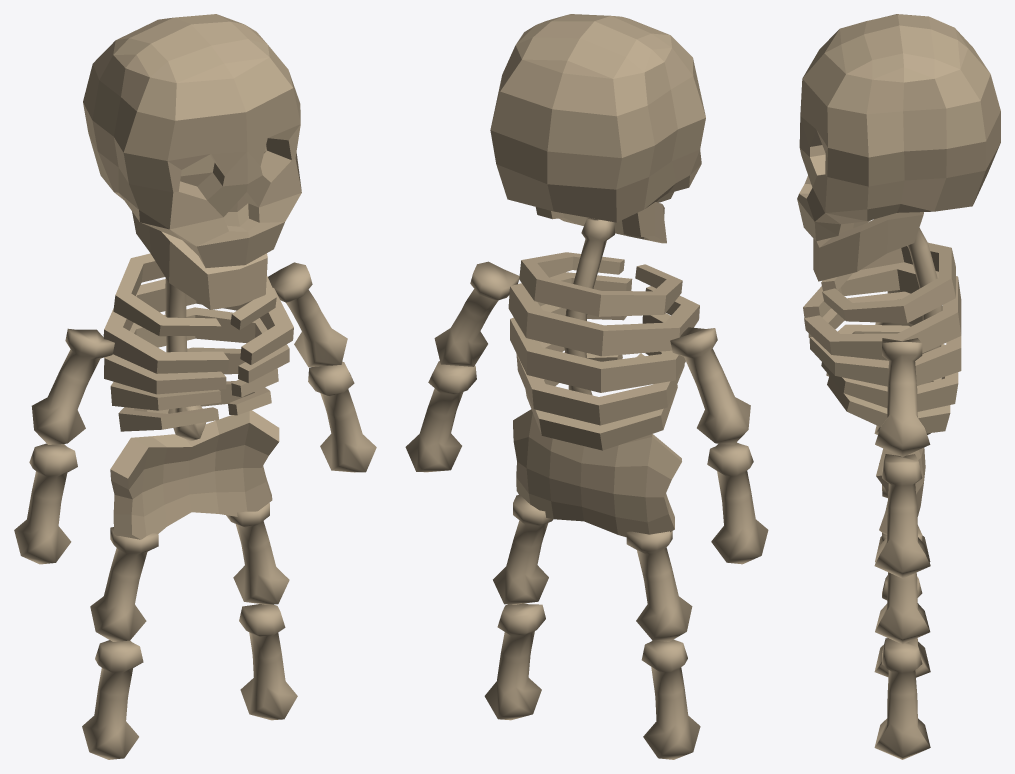
The model's file is skeleton-6b9727f5d6.glb.
3 renders of one model, left to right at view 1: azimuth 30°, elevation 25°; view 2: azimuth 150°, elevation 25°; view 3: azimuth 270°, elevation 25°, orthographic. The views are drawn at different scales.
Parts seen in each view (by area): view 1: Skeleton.obj; view 2: Skeleton.obj; view 3: Skeleton.obj.
Part boxes in pixels (box(x1,y1,x2,y2)): Skeleton.obj: box(14, 14, 376, 759); Skeleton.obj: box(405, 14, 768, 759); Skeleton.obj: box(797, 14, 1000, 759).
Size of the model in its own units: 2.56 by 5 by 1.33.
